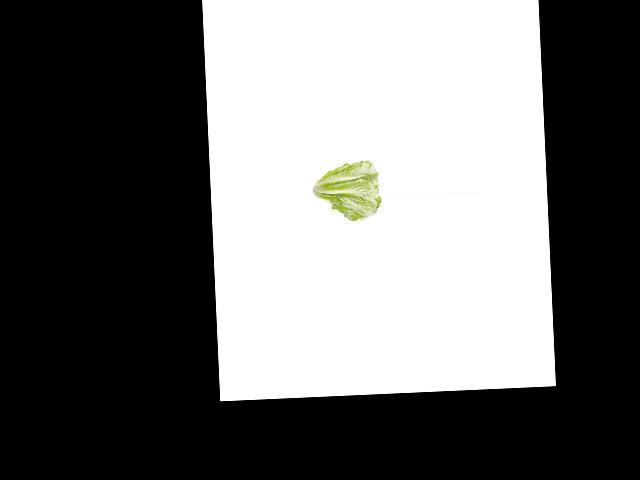lettuce: (308, 162, 383, 225)
